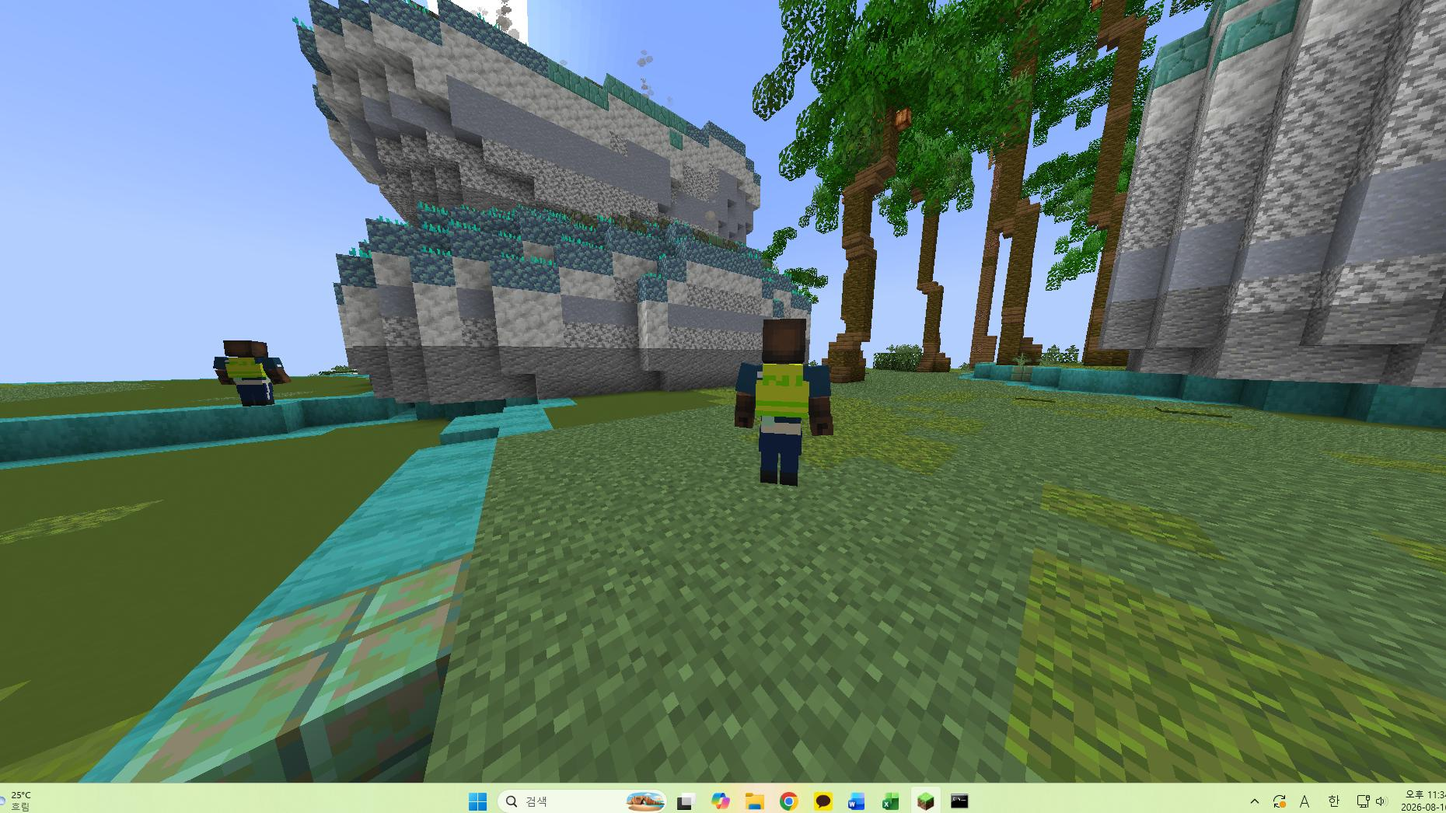Guardian: (735, 319, 833, 485)
